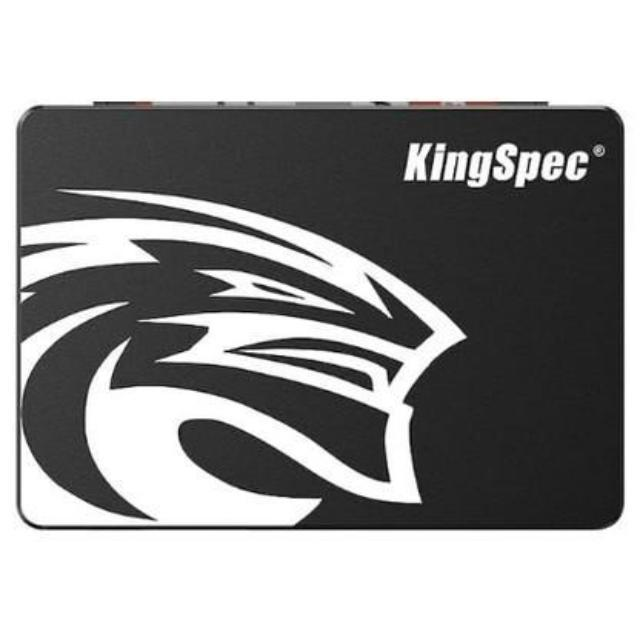DISK: (8, 88, 637, 543)
